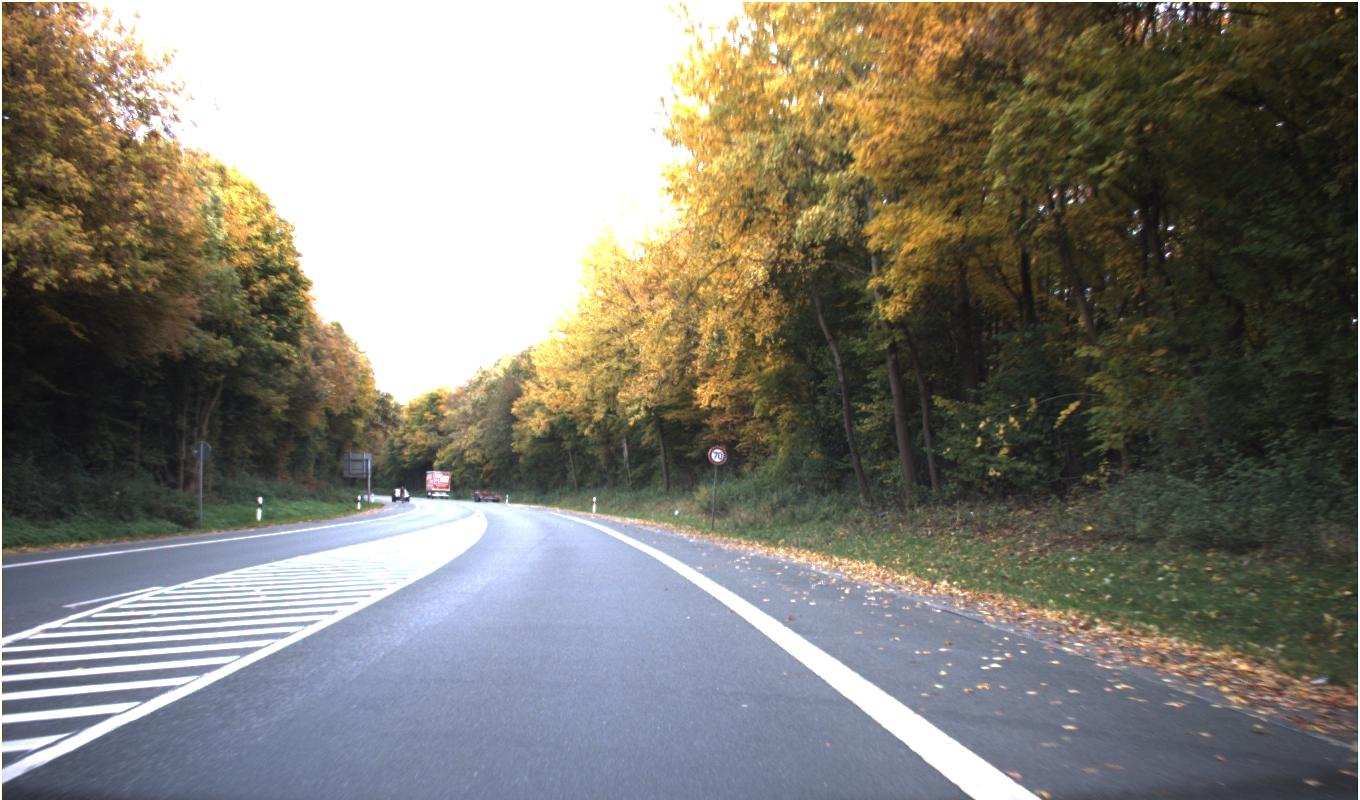prohibitory: (708, 445, 727, 464)
